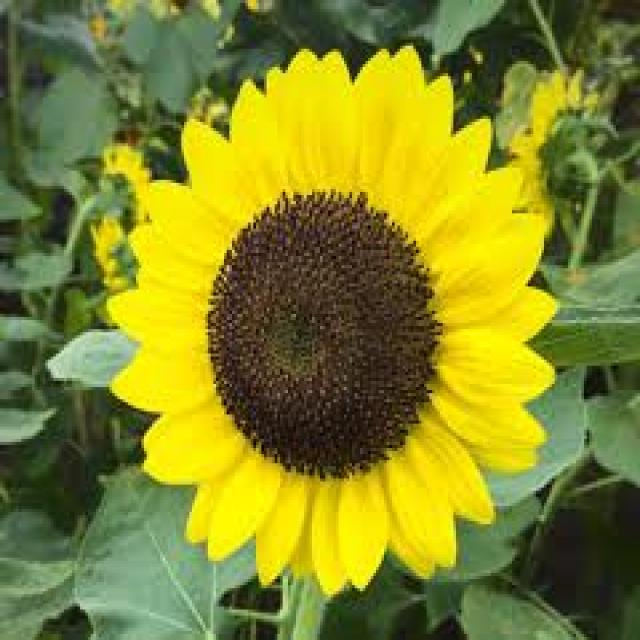sunflower: (99, 30, 566, 622), (505, 51, 611, 222), (96, 128, 158, 238), (85, 214, 146, 306), (176, 75, 234, 141)
